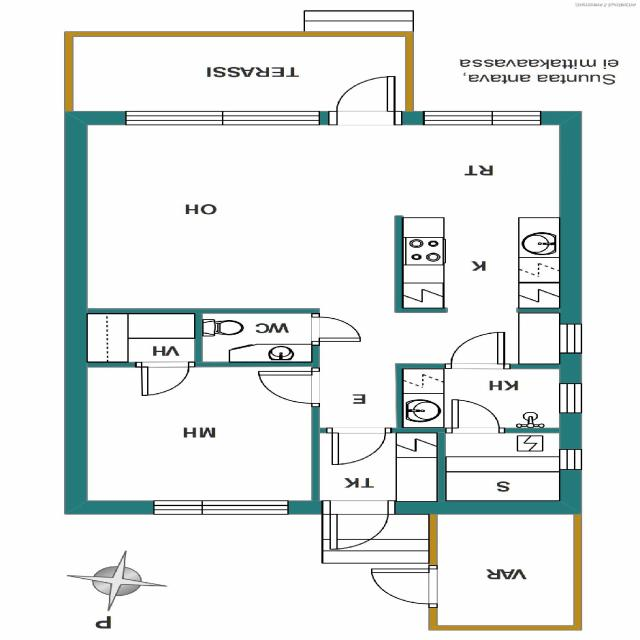door: (330, 500, 388, 550), (336, 76, 395, 125), (366, 568, 438, 607), (255, 369, 321, 404), (332, 428, 386, 465), (451, 332, 504, 368), (452, 399, 498, 433), (142, 362, 188, 394), (313, 316, 360, 340)
